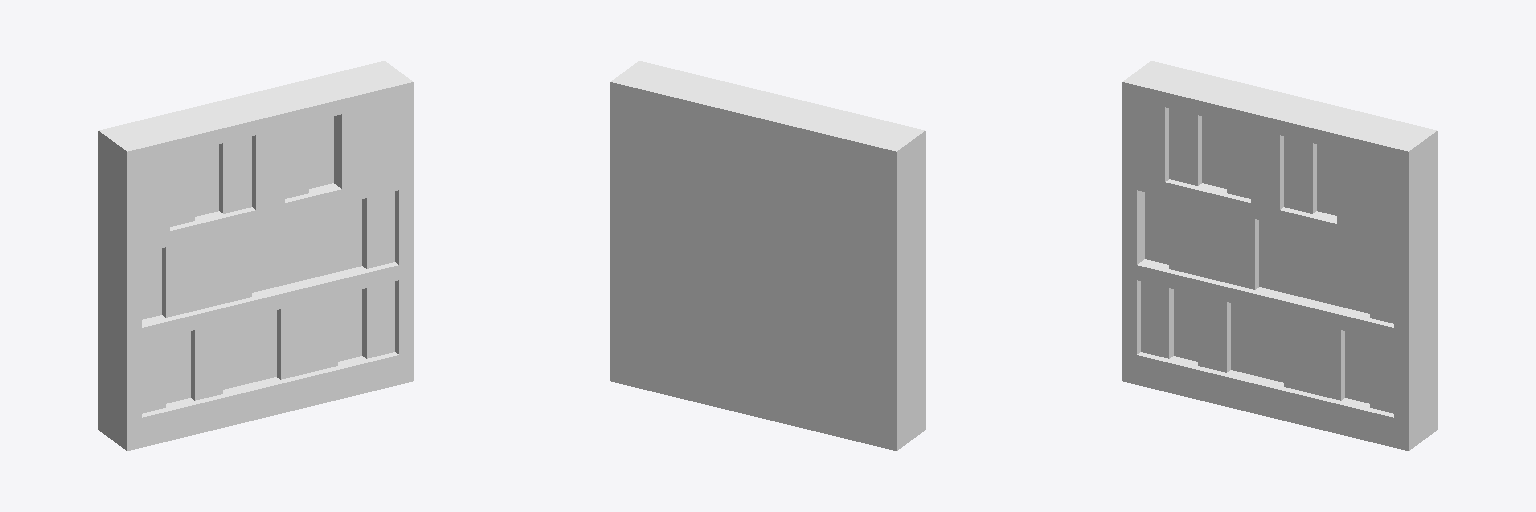
File: BookshelvesNormal.obj
3 views of the same model, side by side, from view 1: azimuth 30°, elevation 25°; view 2: azimuth 150°, elevation 25°; view 3: azimuth 330°, elevation 25° (orthographic).
Parts seen in each view (by area): view 1: object 1; view 2: object 1; view 3: object 1.
Boxes of the visible parts, x1=… form: object 1: x1=98, y1=61, x2=413, y2=450; object 1: x1=610, y1=61, x2=925, y2=450; object 1: x1=1122, y1=61, x2=1437, y2=450.
Bounding box in the file's own units: 4 × 4 × 0.7.